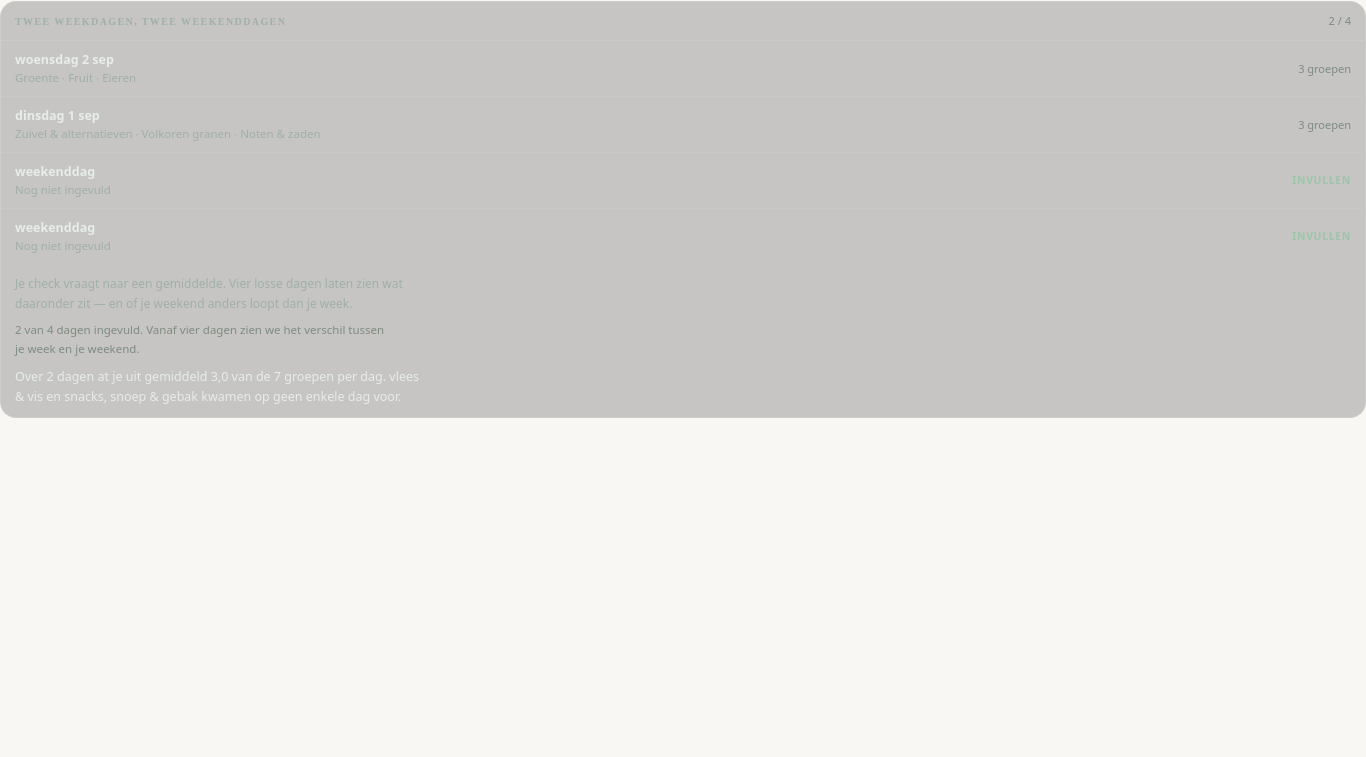
it: NutritionDagboekPaneel › opent onder de weekendplek een weekenddag, niet de eerstvolgende weekdag
Click the button with aria-label "weekenddag invullen". click: click(55, 172)
box: [1,153,1365,208]
(page scrolled)
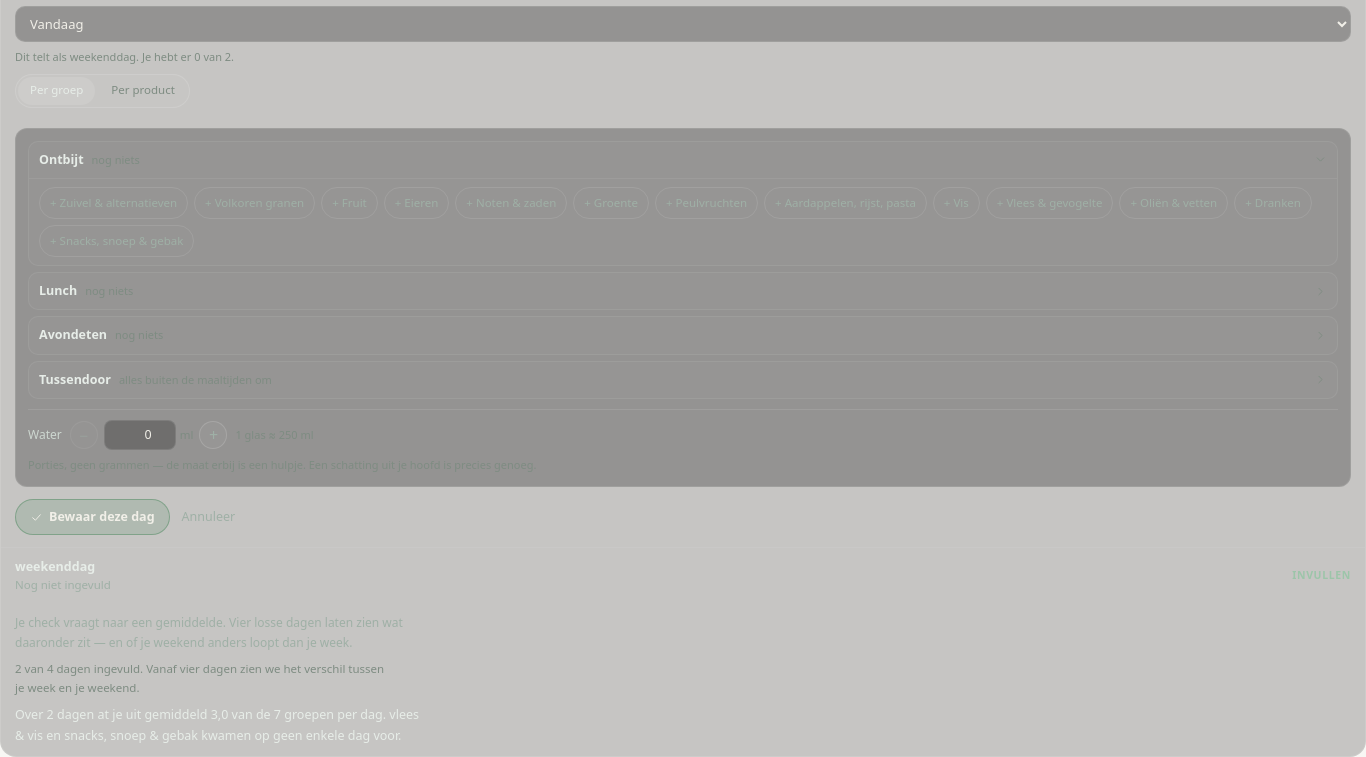
Now the dropdown labelled "Welke dag?" shows "Vandaag", box [15,6,1351,42]
Now the text "Dit telt als weekenddag. Je hebt er 0 van 2." is shown, box [15,49,234,64]
Now the button "Bewaar deze dag" is shown, box [15,499,170,535]
